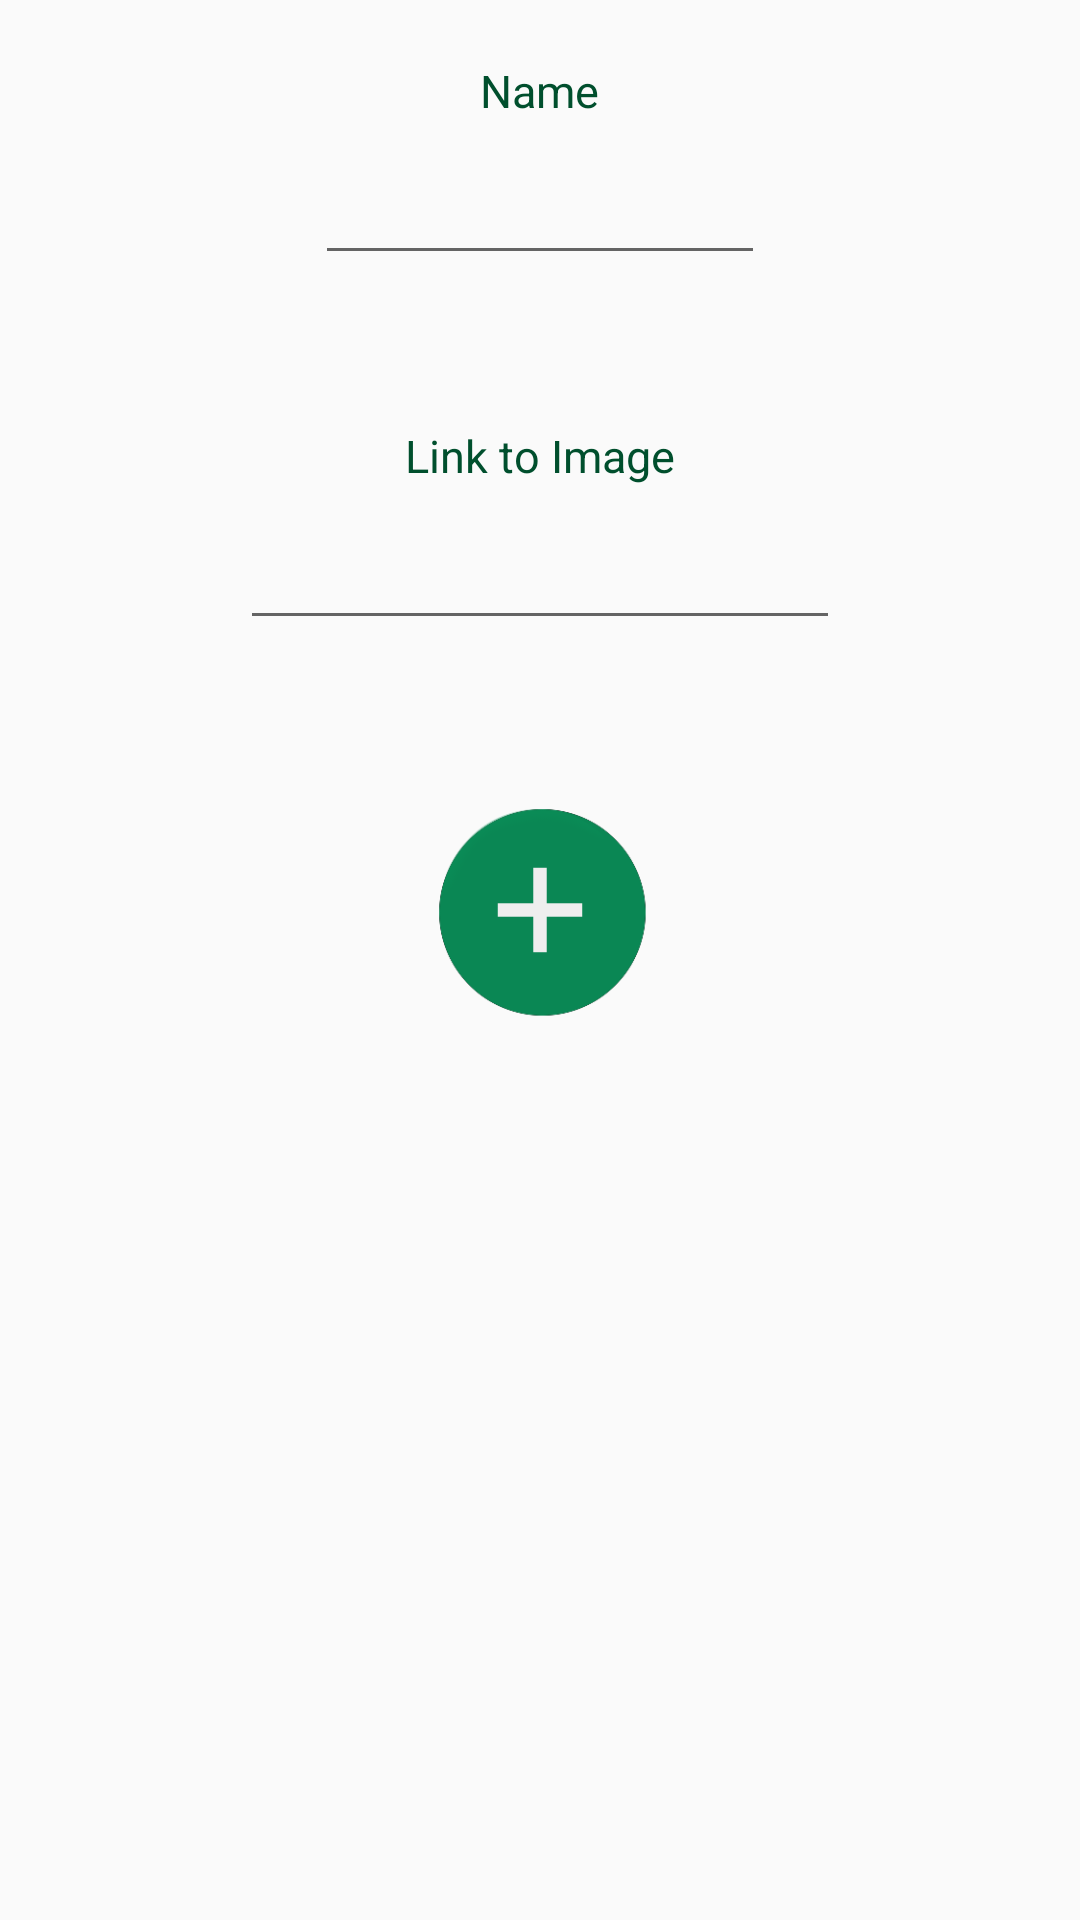

Icon click points for this 1080px x 1920px phone screenshot, format point (x, y):
add: point (542, 912)
